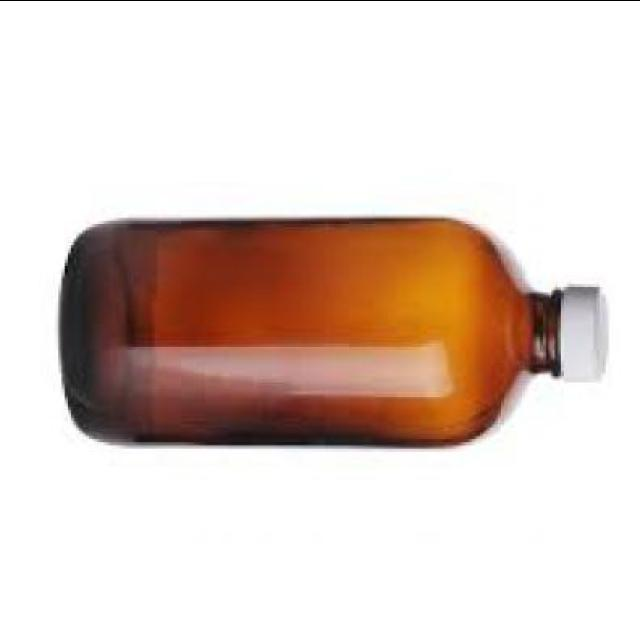kaca: (61, 220, 564, 451)
